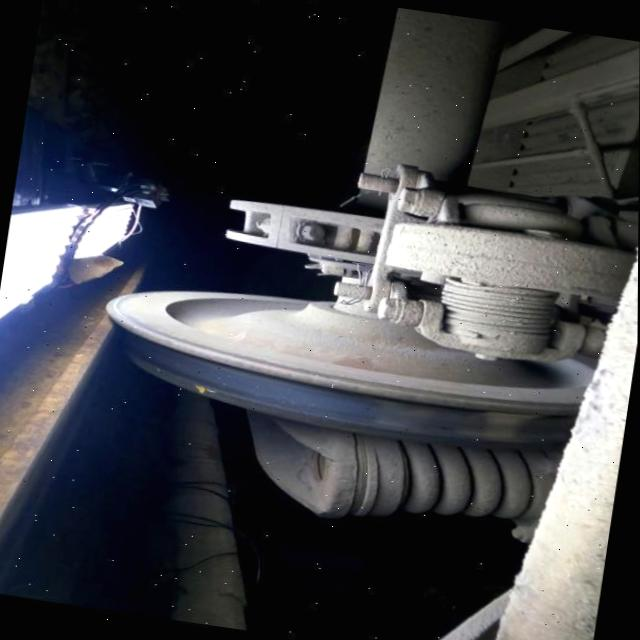Cracks-Scratches: (193, 385, 219, 395)
Shelling: (372, 398, 549, 441)
Wheel: (105, 292, 593, 450)
